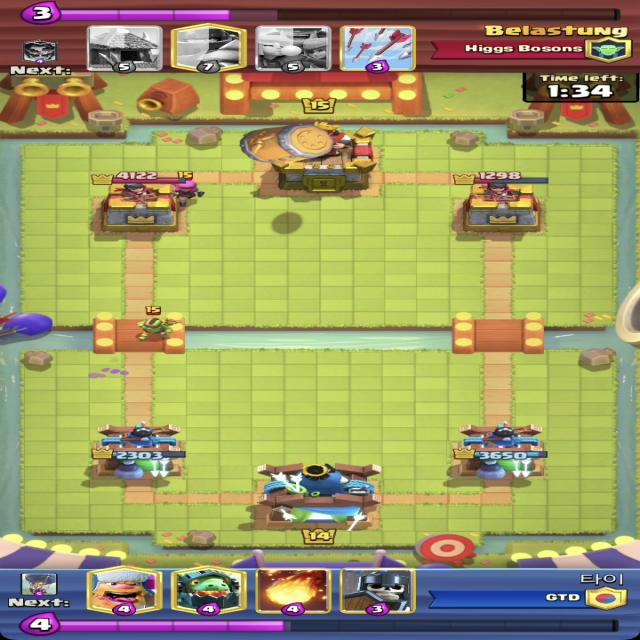Enemy-Firecracker: (163, 171, 206, 206)
Enemy-GoblinBarrel: (238, 122, 334, 164)
Enemy-SpearGoblin: (136, 306, 179, 340)
